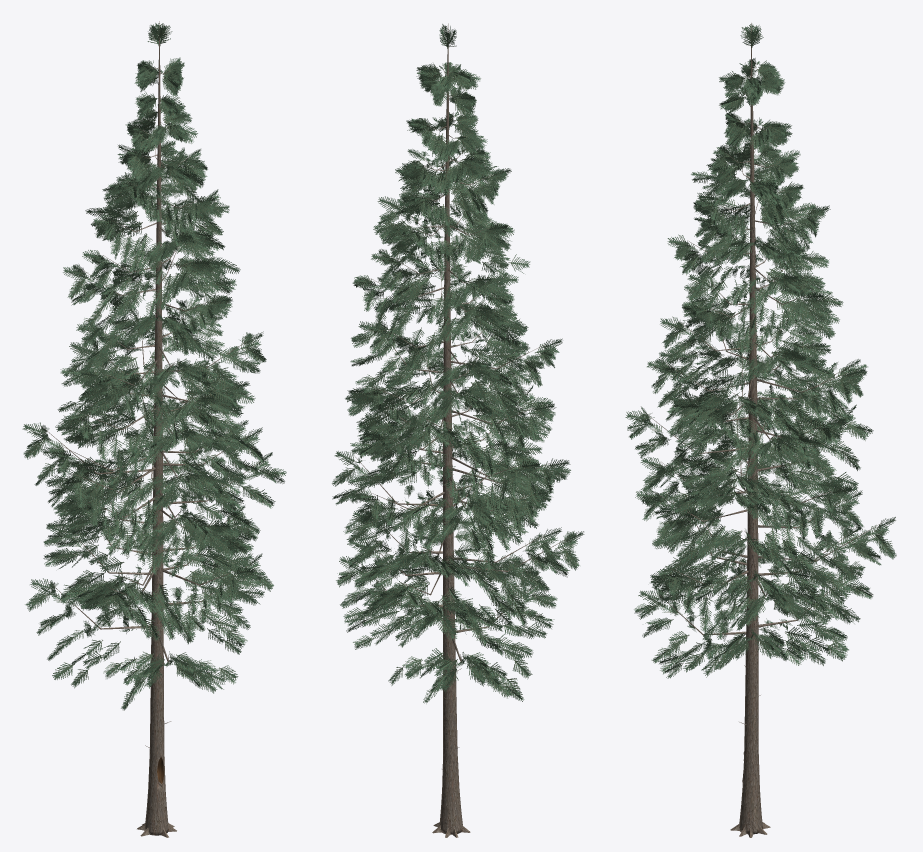
File: SS_Defect_Cavity_Young_02_LOD1.fbx
The picture shows the model from 3 angles, left to right: view 1: azimuth 30°, elevation 25°; view 2: azimuth 150°, elevation 25°; view 3: azimuth 270°, elevation 25°; orthographic projection.
Parts seen in each view (by area): view 1: SS_Defect_Cavity_Young_02_LOD1_Foliage, SS_Defect_Cavity_Young_02_LOD1_Trunk, SS_Defect_Cavity_Young_02_LOD1_Branches; view 2: SS_Defect_Cavity_Young_02_LOD1_Foliage, SS_Defect_Cavity_Young_02_LOD1_Trunk, SS_Defect_Cavity_Young_02_LOD1_Branches; view 3: SS_Defect_Cavity_Young_02_LOD1_Foliage, SS_Defect_Cavity_Young_02_LOD1_Trunk, SS_Defect_Cavity_Young_02_LOD1_Branches.
Part boxes in pixels (x1=…): SS_Defect_Cavity_Young_02_LOD1_Foliage: x1=22, y1=23, x2=286, y2=710; SS_Defect_Cavity_Young_02_LOD1_Trunk: x1=137, y1=21, x2=176, y2=837; SS_Defect_Cavity_Young_02_LOD1_Branches: x1=42, y1=65, x2=260, y2=747; SS_Defect_Cavity_Young_02_LOD1_Foliage: x1=332, y1=24, x2=584, y2=703; SS_Defect_Cavity_Young_02_LOD1_Trunk: x1=432, y1=23, x2=470, y2=837; SS_Defect_Cavity_Young_02_LOD1_Branches: x1=354, y1=69, x2=568, y2=769; SS_Defect_Cavity_Young_02_LOD1_Foliage: x1=625, y1=24, x2=896, y2=678; SS_Defect_Cavity_Young_02_LOD1_Trunk: x1=730, y1=23, x2=770, y2=837; SS_Defect_Cavity_Young_02_LOD1_Branches: x1=645, y1=63, x2=881, y2=772.
Bounding box in the file's own units: 339 × 1100 × 358.
